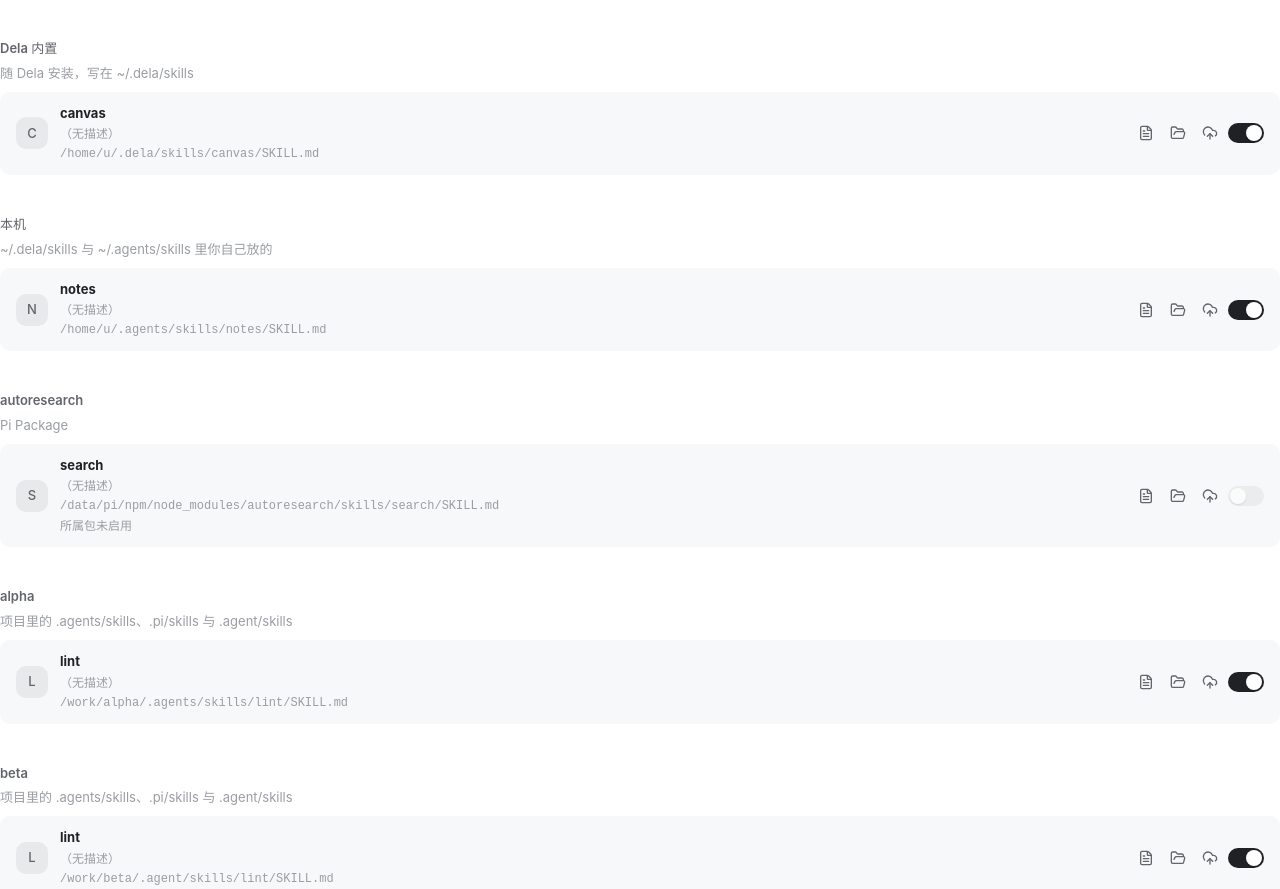
groups skills by where they come from and toggles them by id
(page scrolled)
Expected: the switch named "启用 search" is disabled, [1228, 486, 1264, 506]
# 两个项目的 lint 同名：只动 beta 那一个。
Click the 2nd switch named "启用 lint". click: coordinates (1246, 858)
box: [1228, 848, 1264, 868]
(page scrolled)
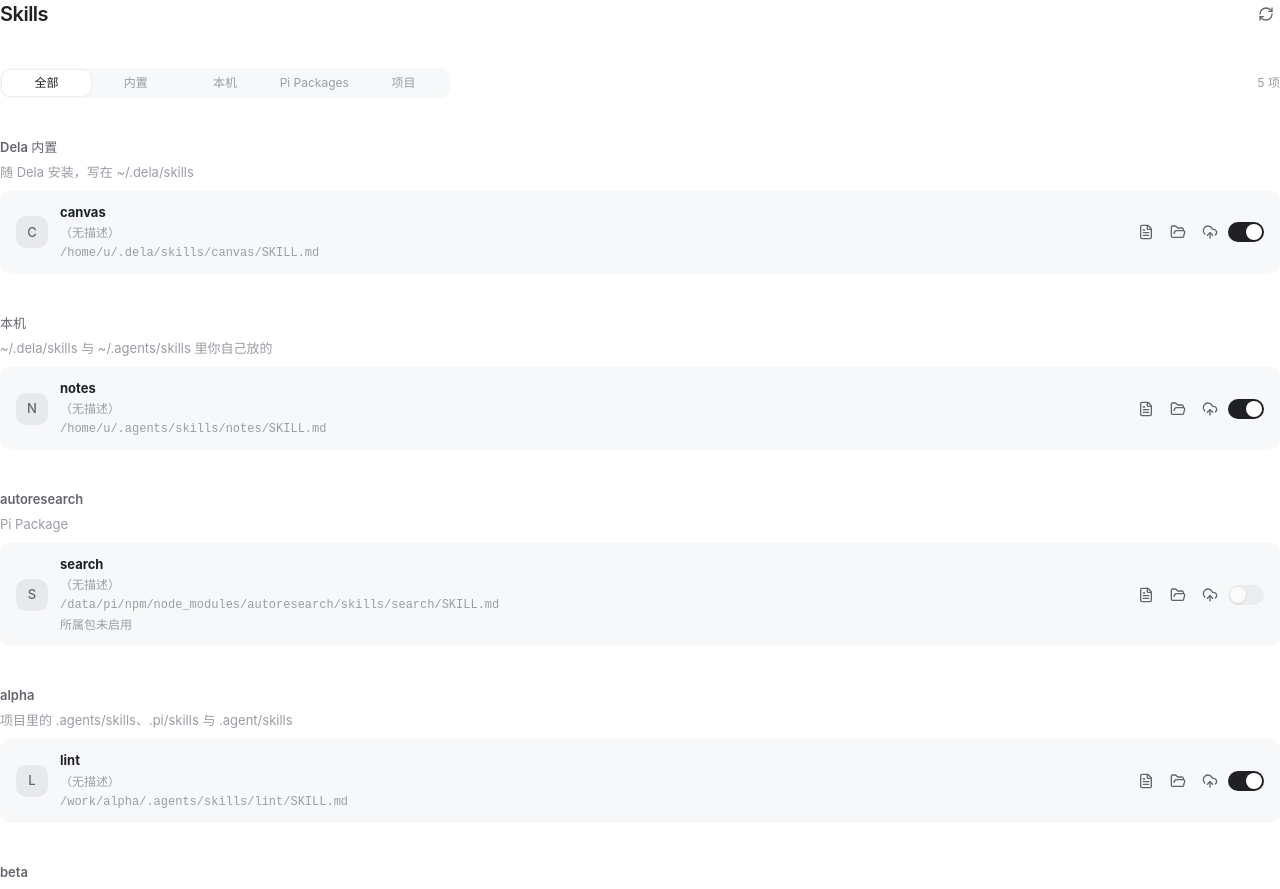
Click the button "项目". click: coordinates (404, 83)
box: [359, 70, 448, 96]
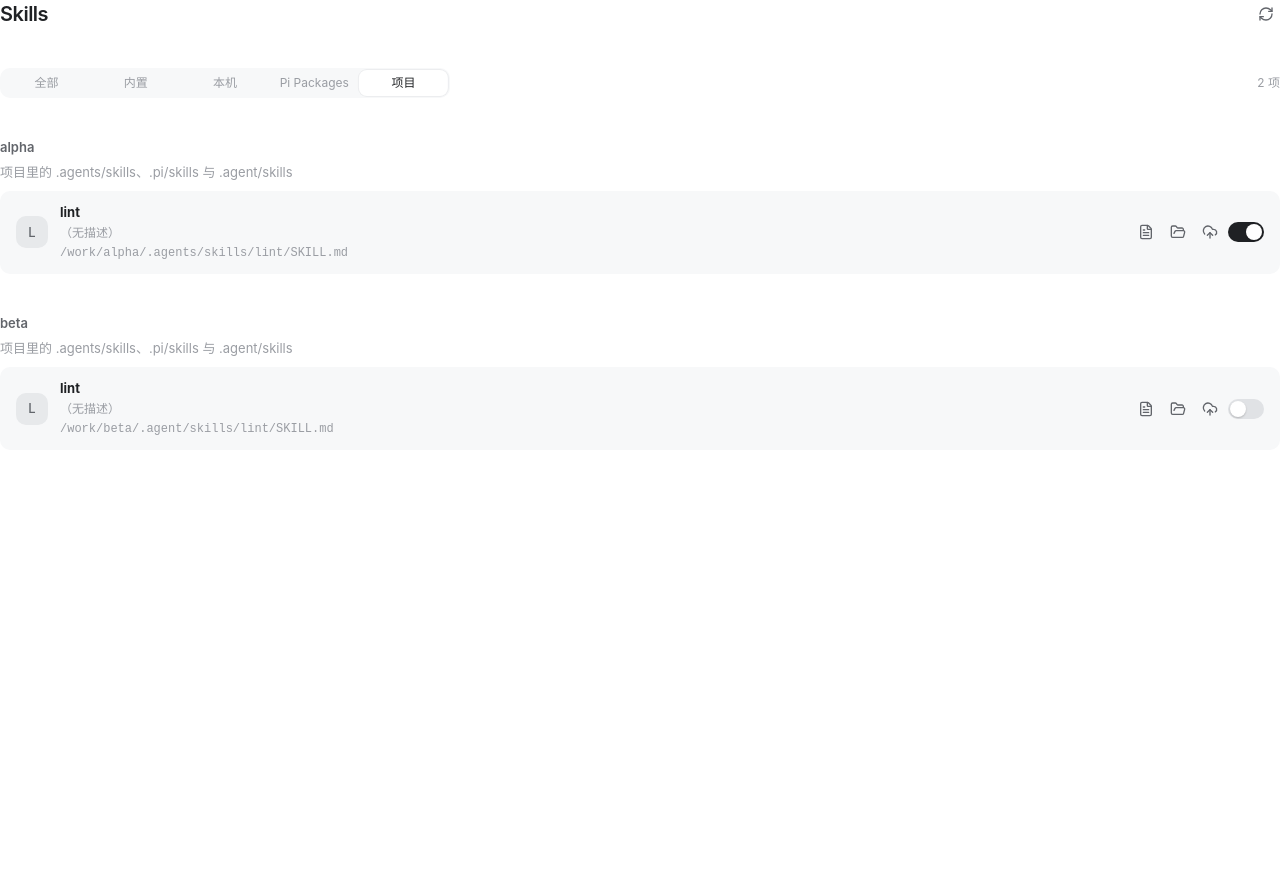
Expected: the text "alpha" is shown, [0, 139, 34, 155]
Expected: the text "canvas" is gone
